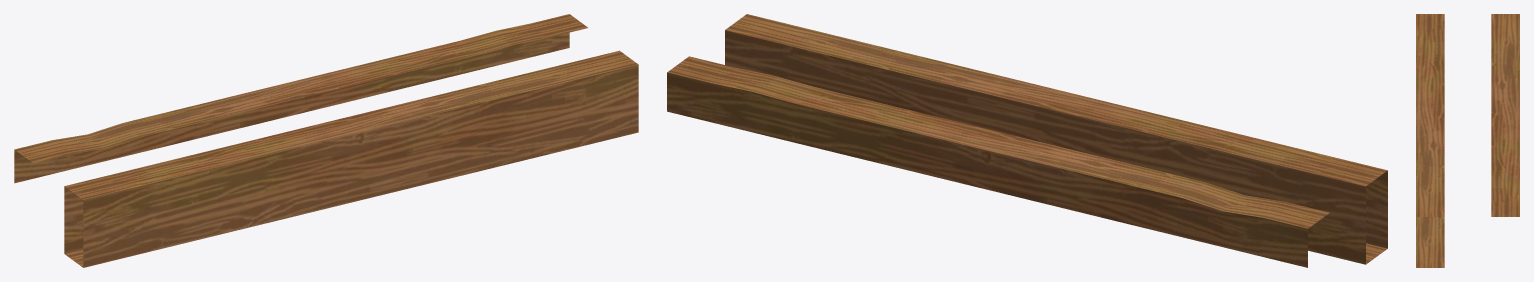
The model's file is wall_bottomcover.glb.
The picture shows the model from 3 angles, left to right: view 1: azimuth 30°, elevation 25°; view 2: azimuth 150°, elevation 25°; view 3: azimuth 270°, elevation 25°; orthographic projection. The views are drawn at different scales.
Size of the model in its own units: 2 by 0.2376 by 0.4315.
Materials: 1 (1 with a texture image).
